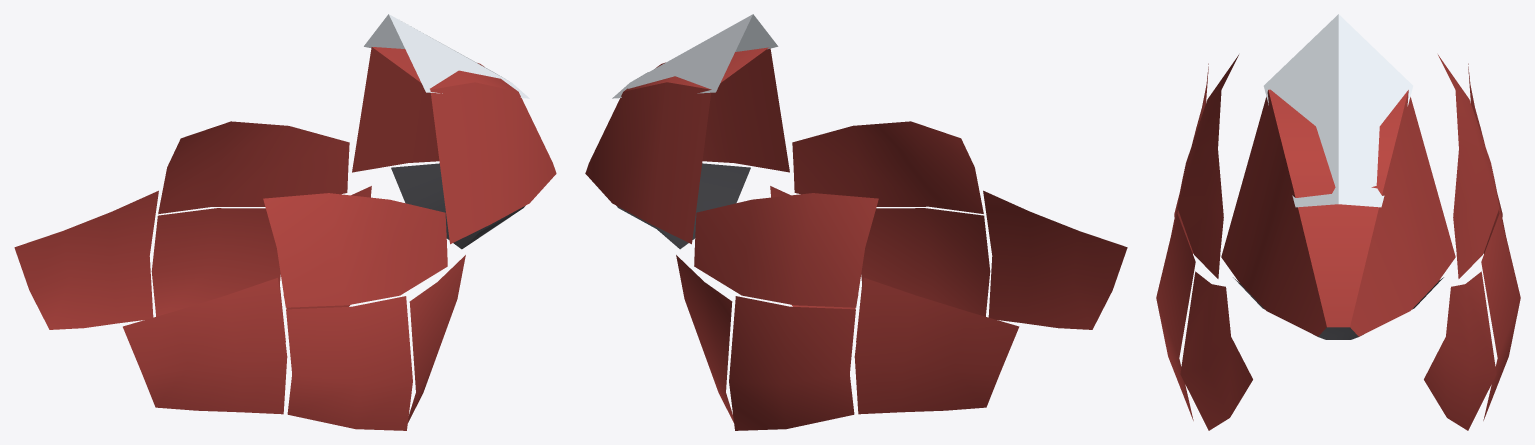
Rendered from touring_lod2.glb.
3 views of the same model, side by side, from view 1: azimuth 30°, elevation 25°; view 2: azimuth 150°, elevation 25°; view 3: azimuth 270°, elevation 25° (orthographic). The views are drawn at different scales.
Visible parts, largest first — view 1: touring_lod2; view 2: touring_lod2; view 3: touring_lod2.
Boxes of the visible parts, box(x1,y1,x2,y2) form: touring_lod2: box(14, 14, 556, 430); touring_lod2: box(585, 14, 1127, 430); touring_lod2: box(1156, 14, 1520, 430).
Size of the model in its own units: 1.12 by 0.8243 by 0.6196.
